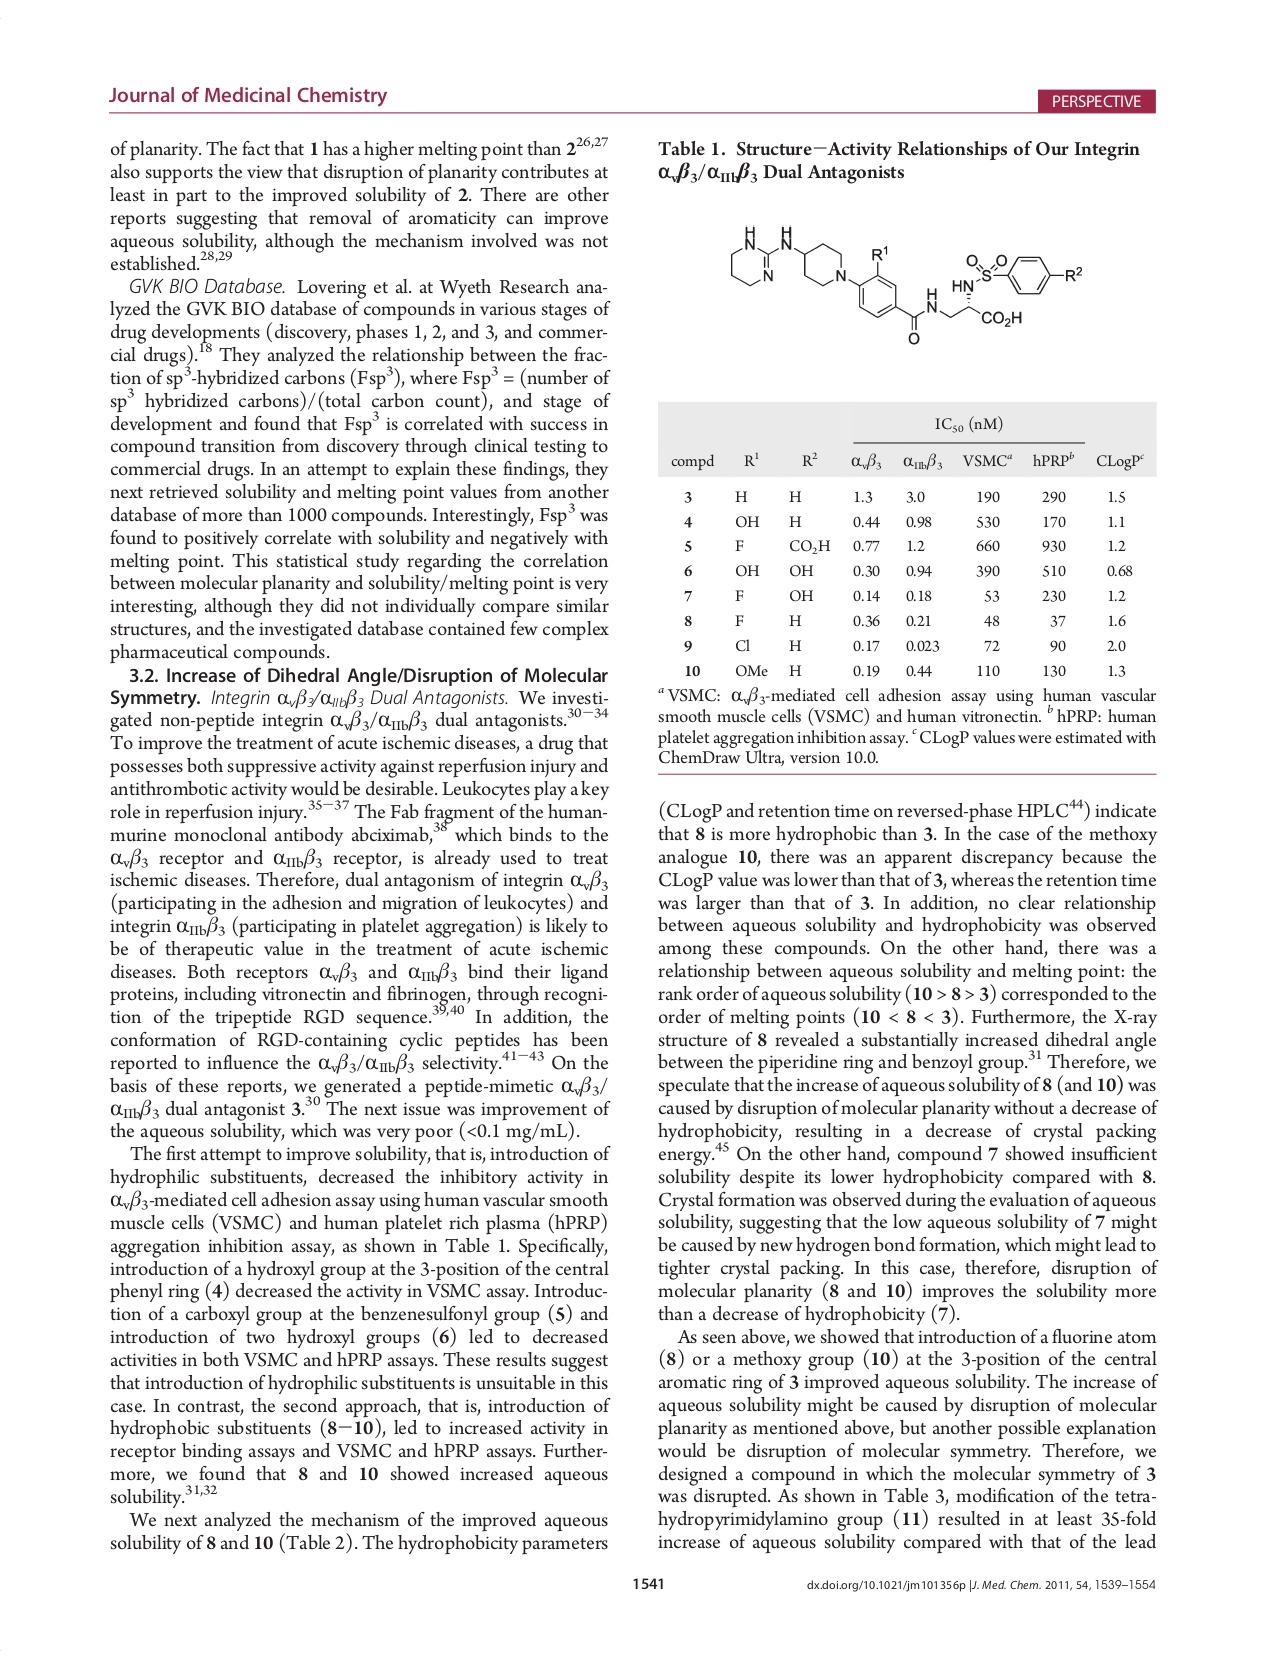exist_molecular: (725, 215, 1085, 347)
